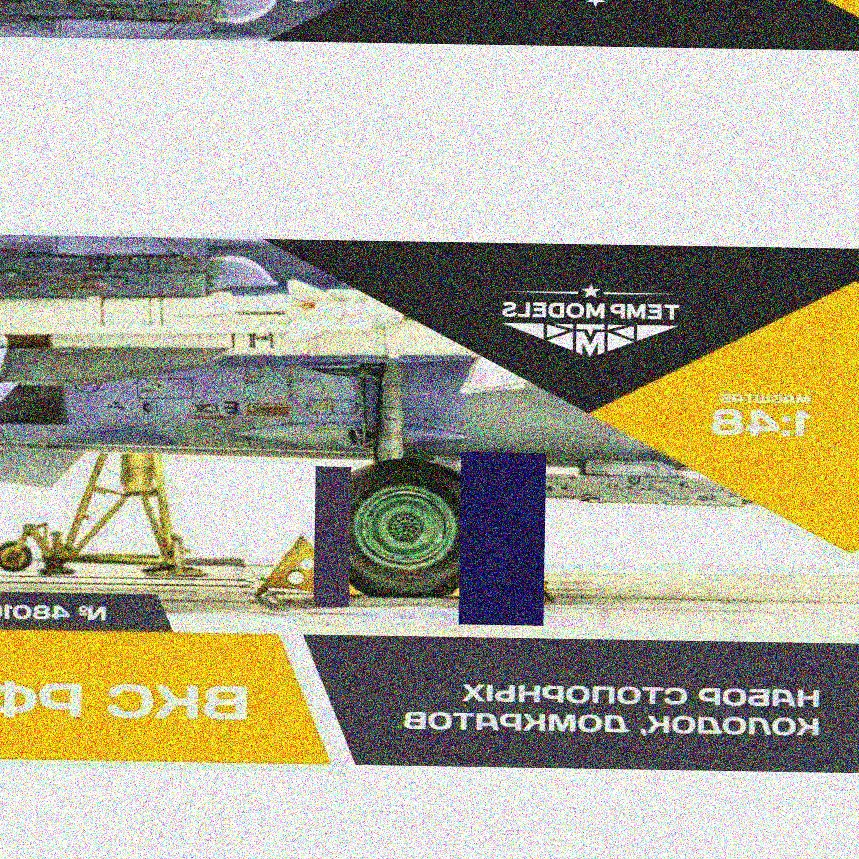chock: (256, 536, 366, 599), (450, 538, 556, 601)
wheel: (318, 454, 495, 595), (0, 539, 35, 571)
